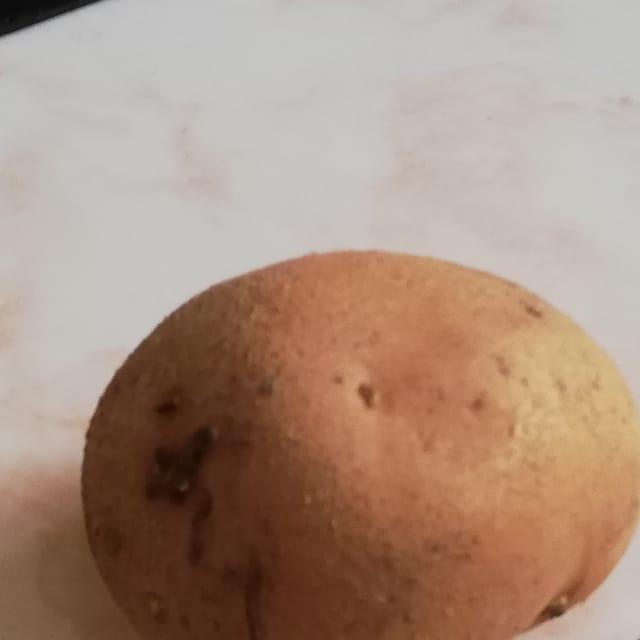potato: (58, 232, 640, 640)
